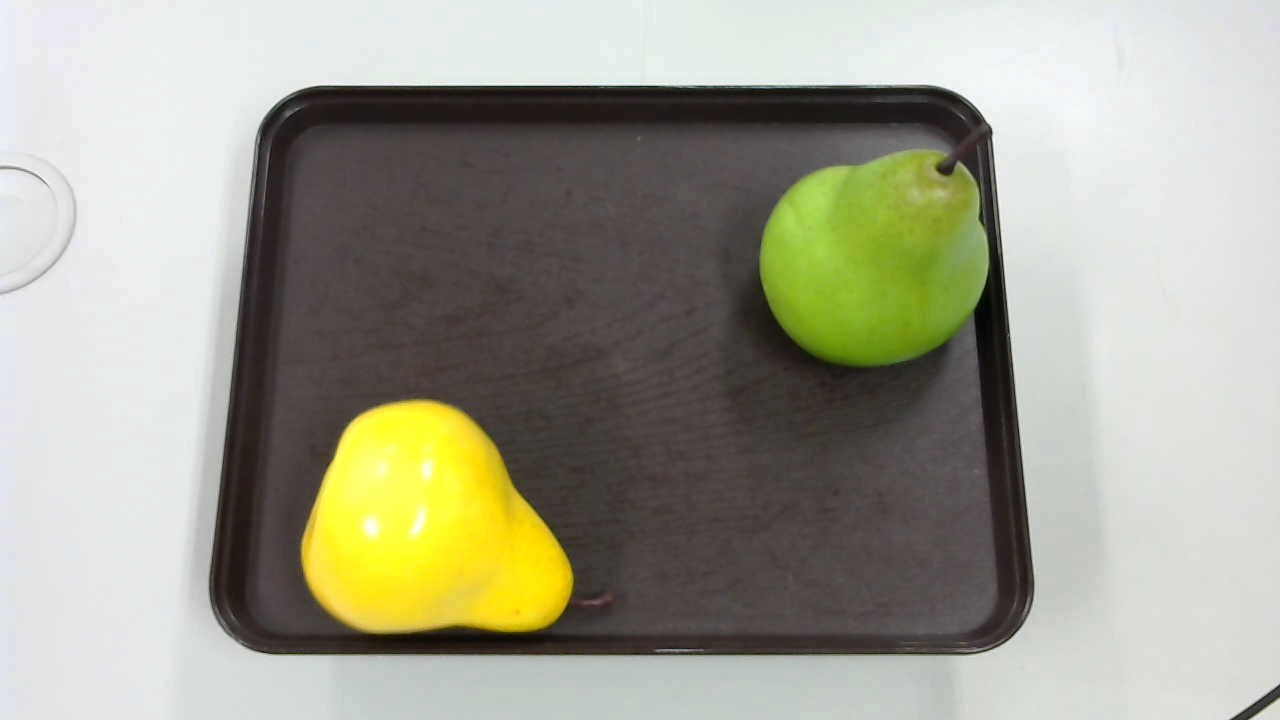green pear: (754, 127, 1007, 386)
yellow pear: (300, 397, 626, 635)
